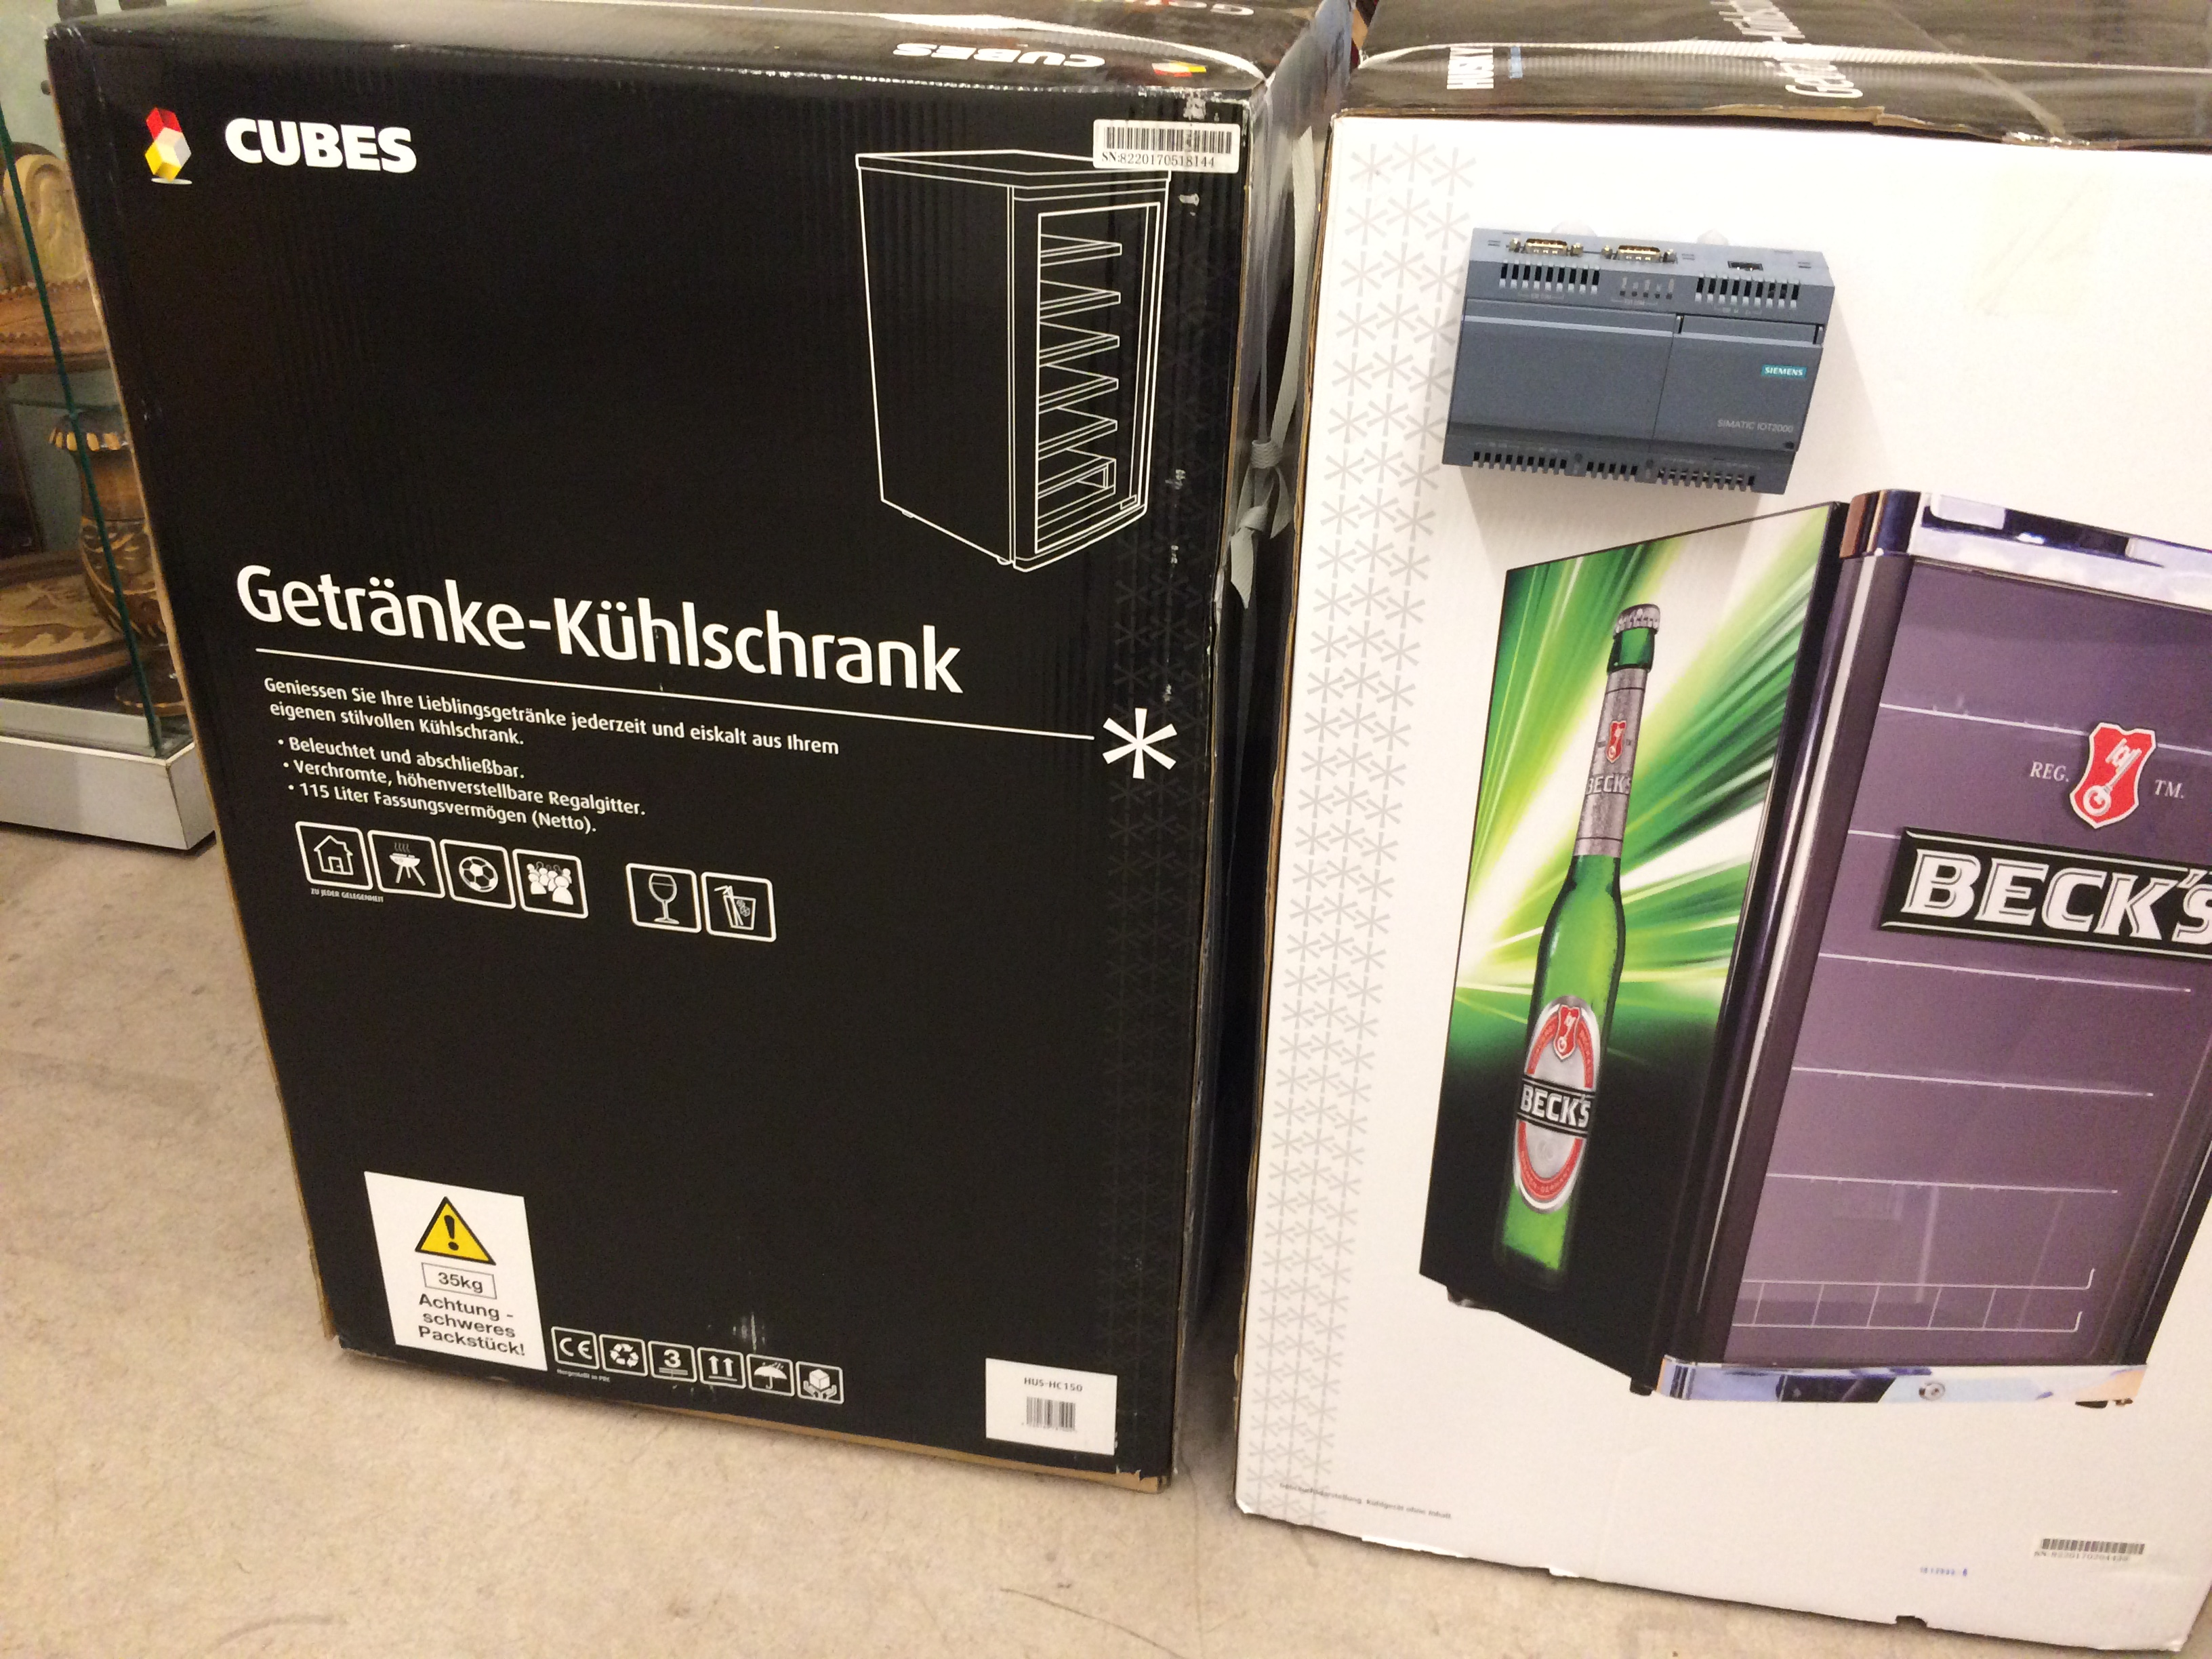iot2000: (1439, 223, 1836, 498)
